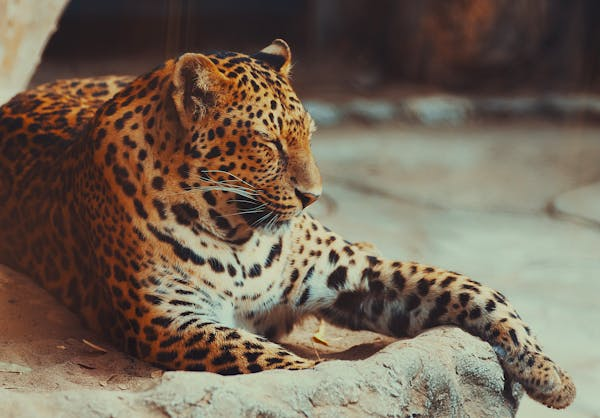Leopard: (1, 36, 573, 410)
